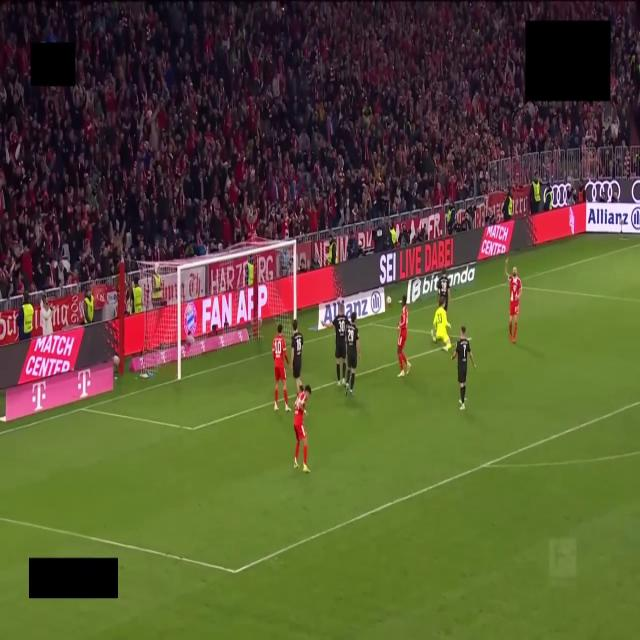ball: (386, 296, 391, 304)
player: (452, 326, 475, 409), (324, 304, 347, 386), (272, 324, 290, 411), (294, 385, 311, 472), (505, 259, 521, 343), (345, 312, 360, 395), (432, 297, 451, 351), (398, 296, 410, 377), (291, 320, 303, 391), (437, 268, 449, 311)
